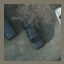car: (26, 26, 45, 51), (4, 18, 17, 42)
